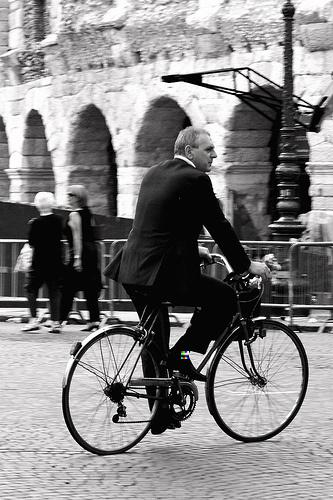car: (61, 254, 310, 456)
person: (103, 127, 272, 436), (22, 192, 72, 334), (65, 185, 104, 332)
